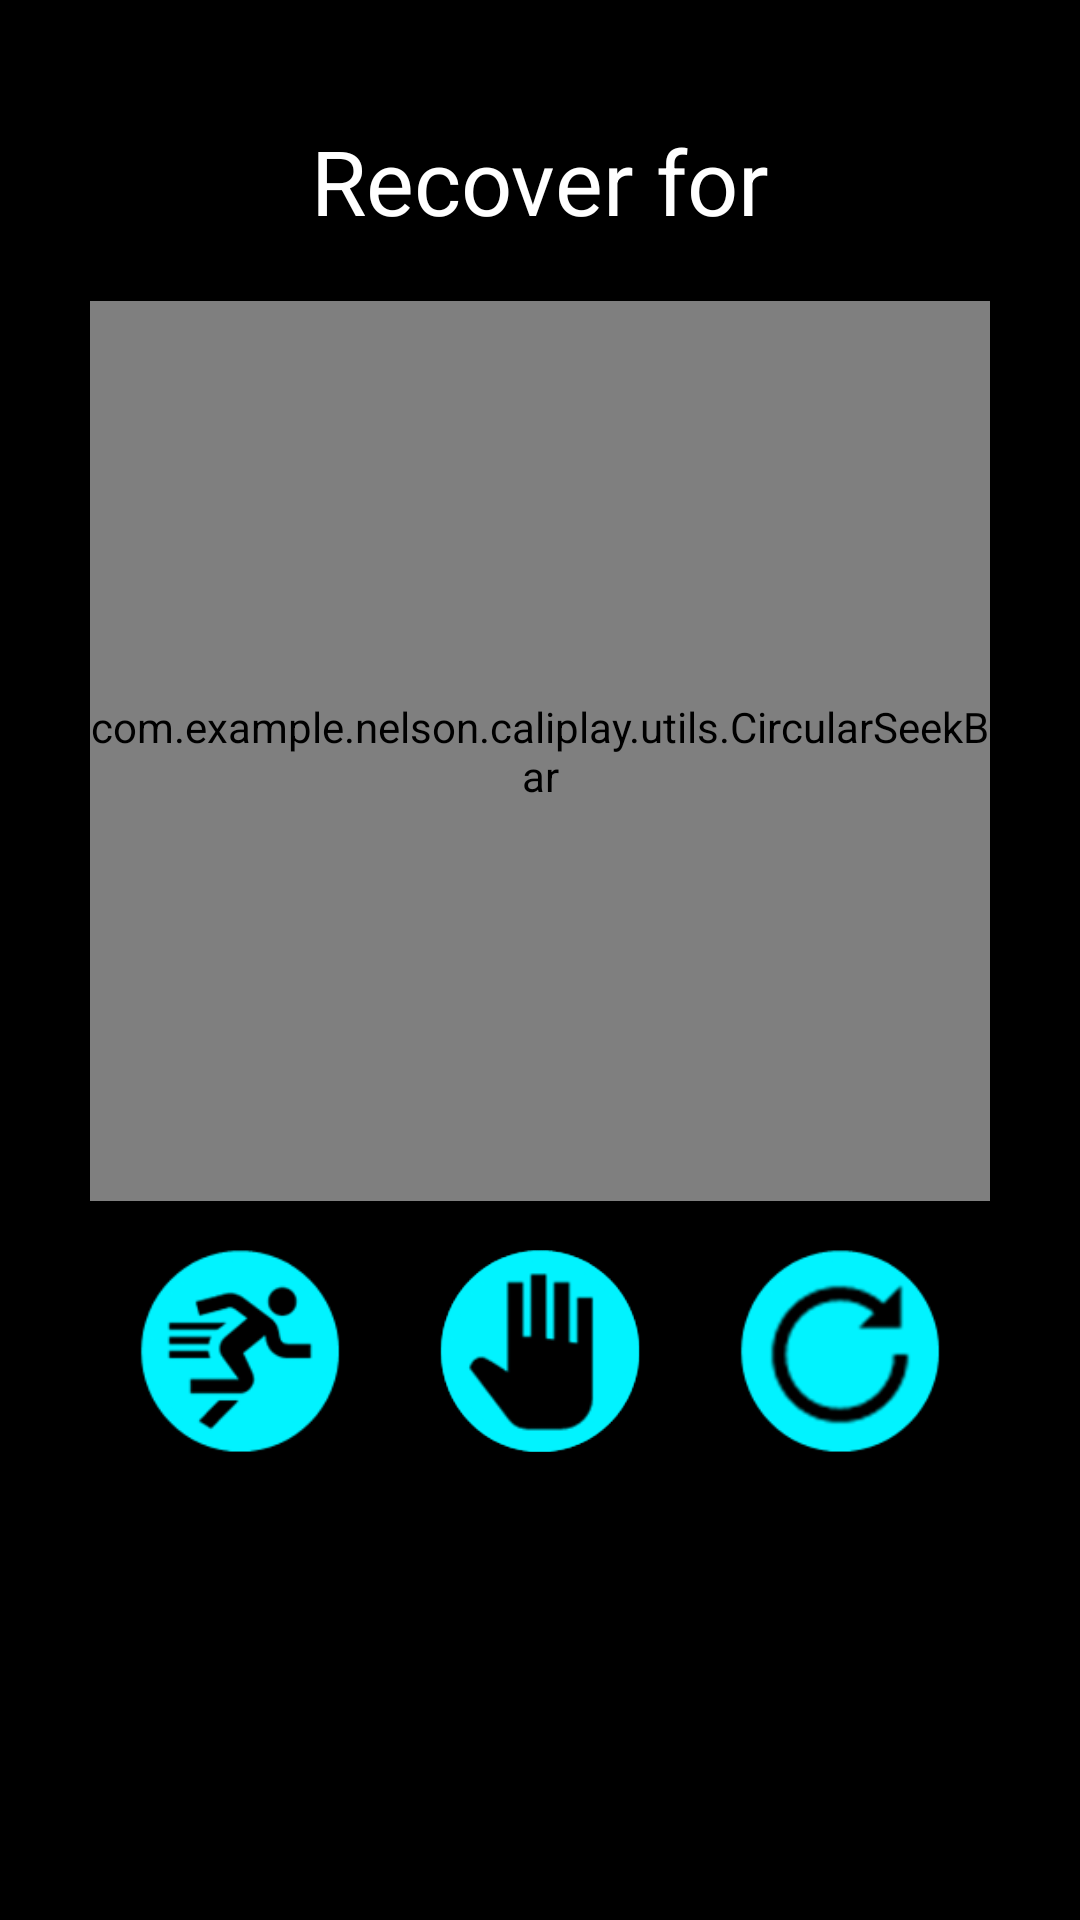

Named icons in this screenshot (1080x1920) and their bounding boxes, [left=x1, top=y1, right=x2, bottom=y2]:
fast rest timer: [left=140, top=1250, right=340, bottom=1452]
redo rest timer: [left=740, top=1250, right=940, bottom=1452]
